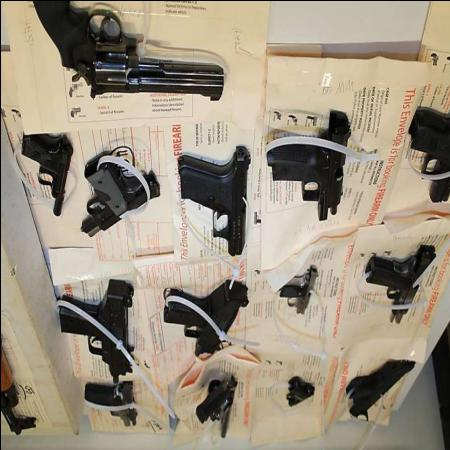Pistol: (27, 1, 220, 116), (264, 113, 362, 227), (172, 136, 249, 266), (78, 146, 158, 242), (367, 235, 438, 332), (16, 124, 70, 220), (189, 367, 247, 440), (280, 245, 318, 331), (279, 372, 314, 410)
